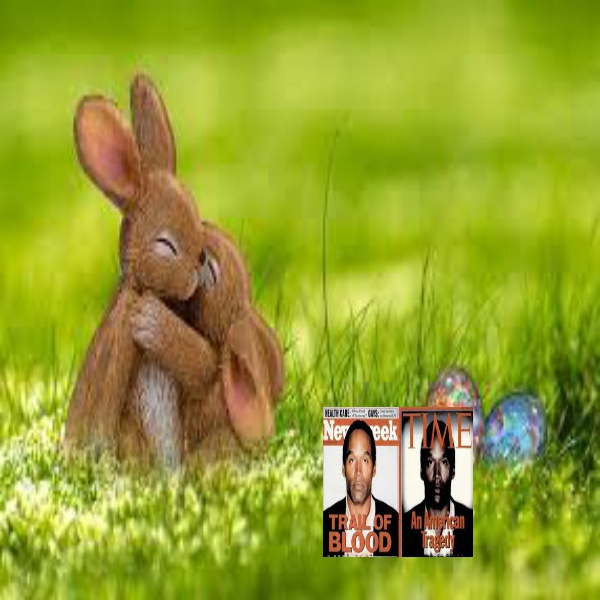time_cover: (404, 397, 473, 560)
